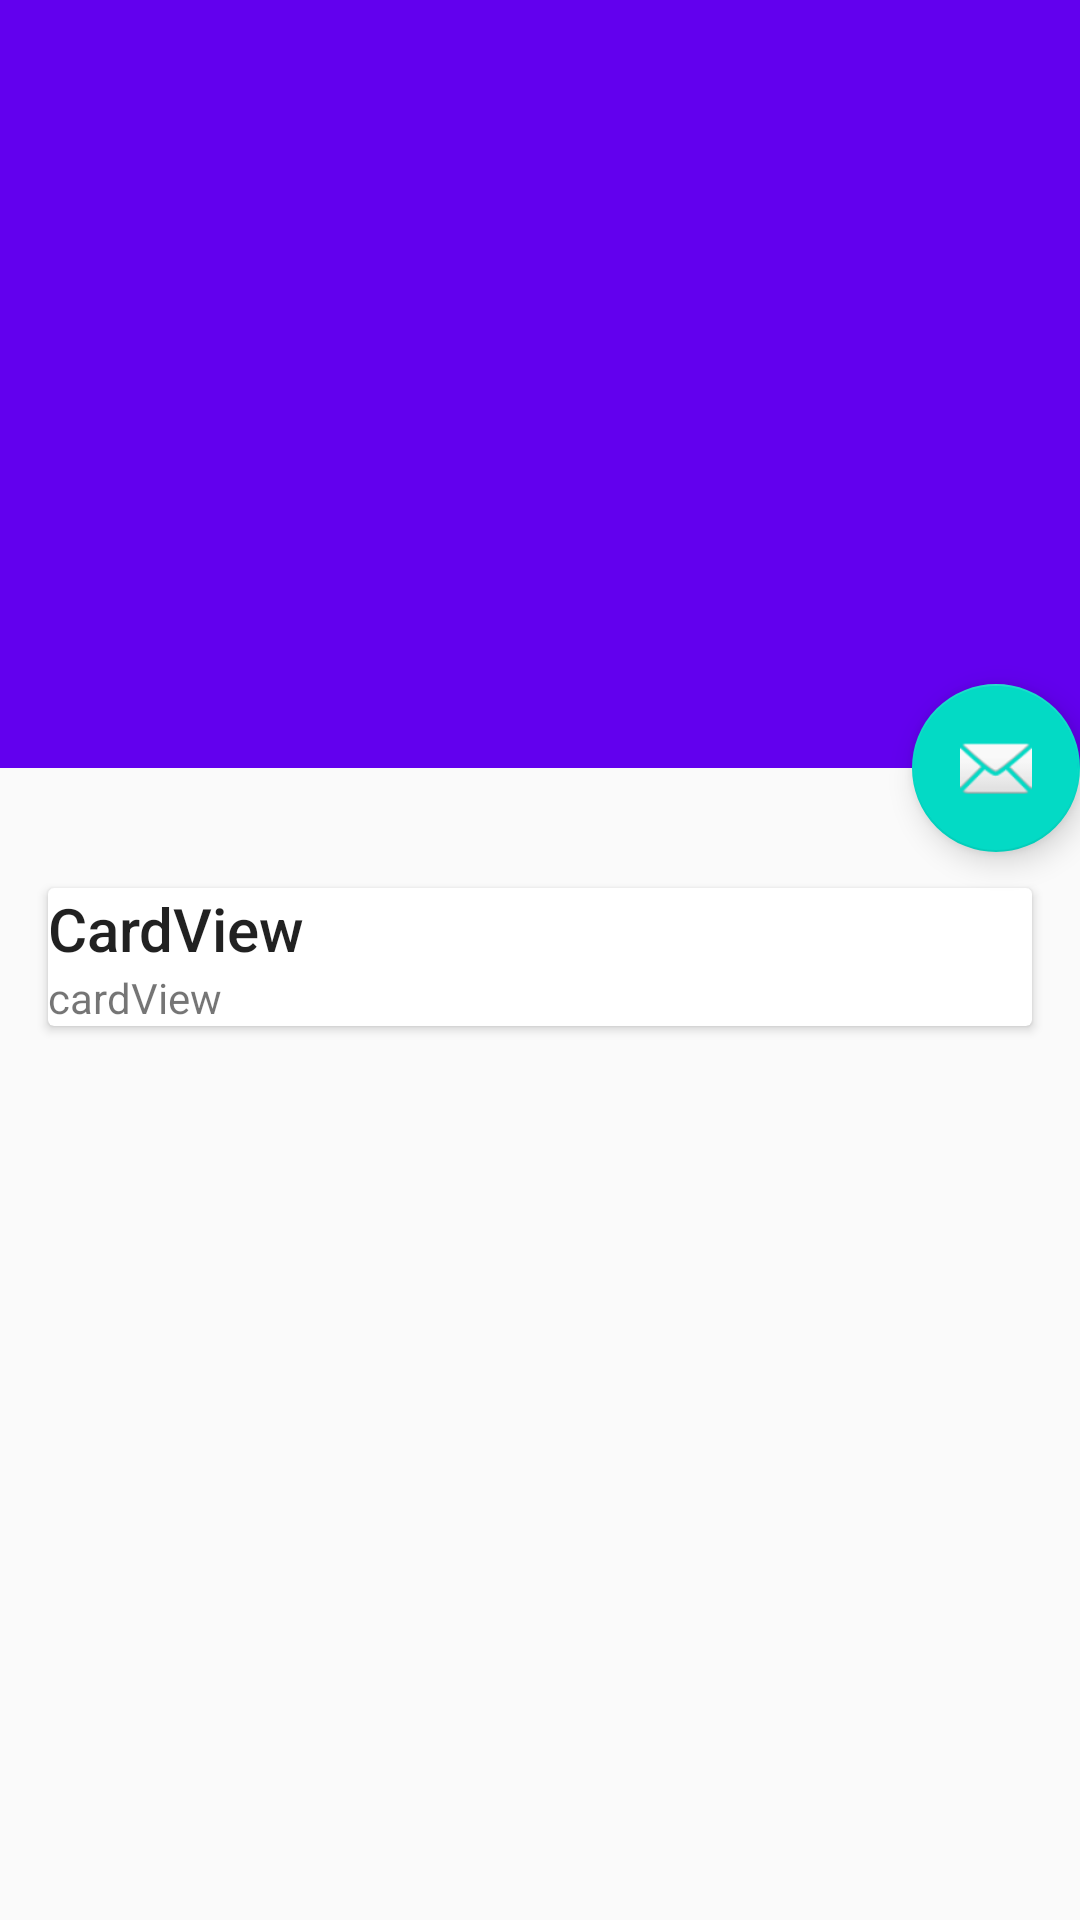

Named icons in this screenshot (1080*1920) and their centers, point (x, y):
email: point (996, 768)
